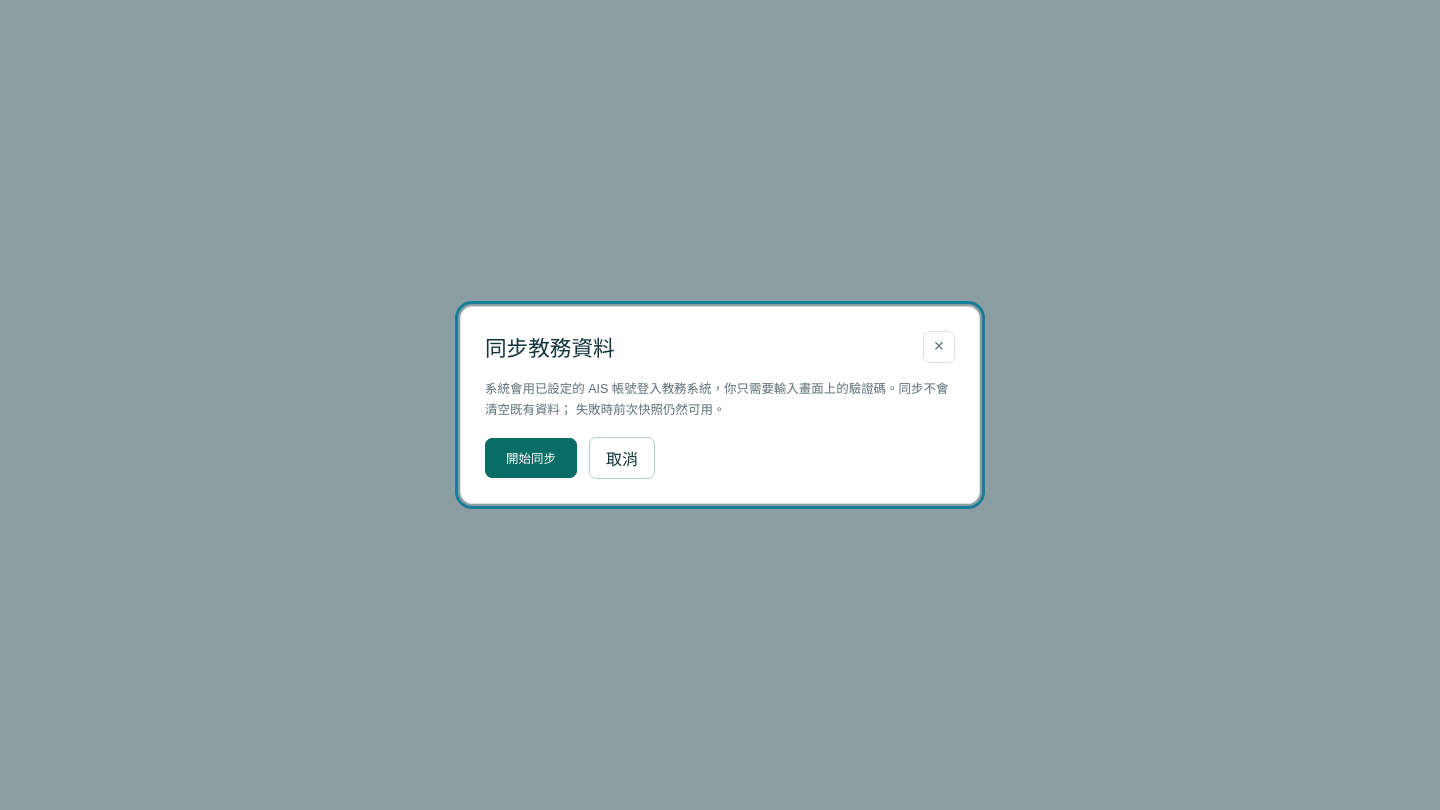
Test: SyncDialog（AIS 同步） › 開始同步 → 輸入驗證碼 → 顯示同步結果，並通知父層重新載入
Later steps or results of the test are not shown.
Click the button "開始同步" at (531, 458), box [485, 438, 577, 478]
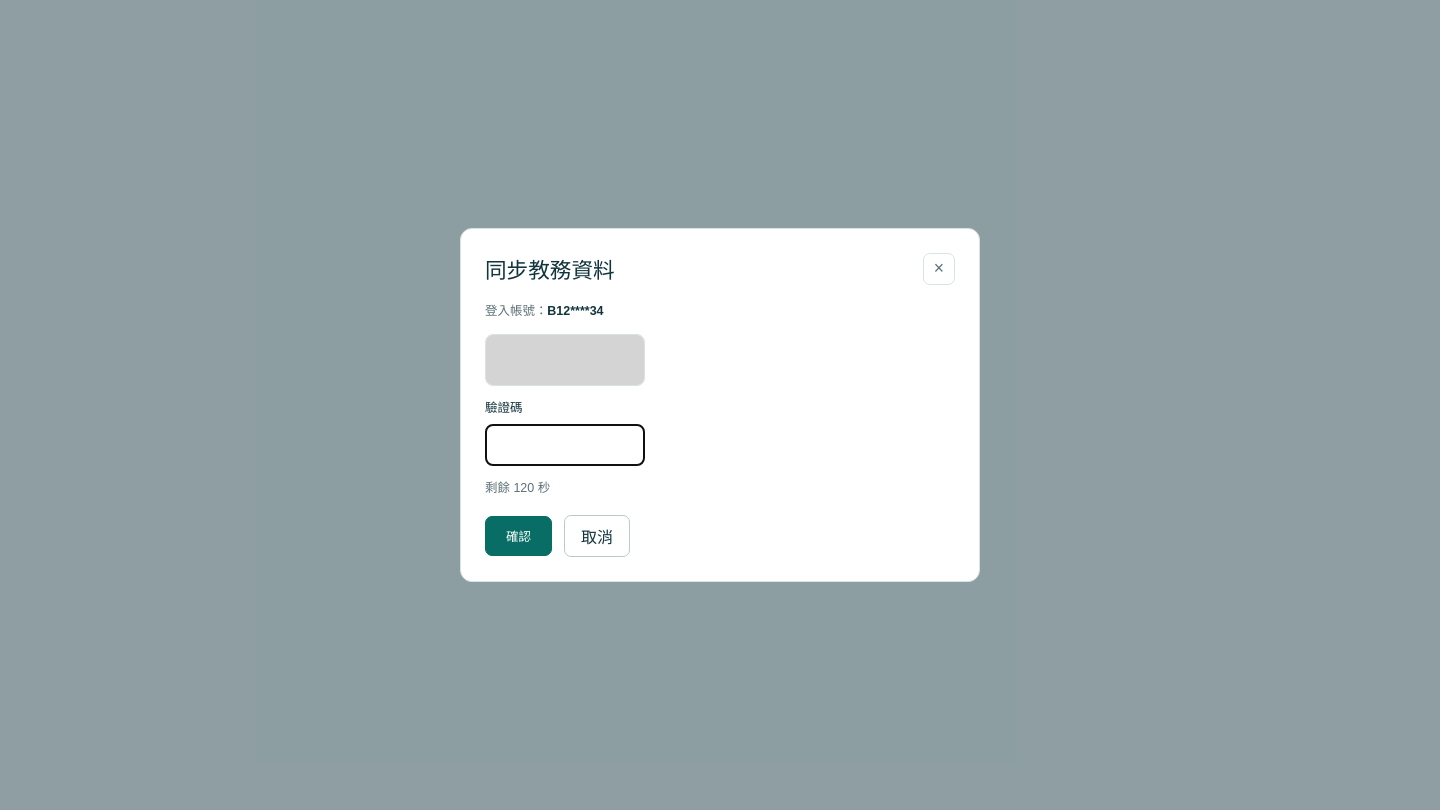
Expected: the text "B12****34" is shown, [547, 304, 604, 318]
Type "a1b2" into the field labelled "驗證碼" at (565, 445), box [485, 424, 645, 466]
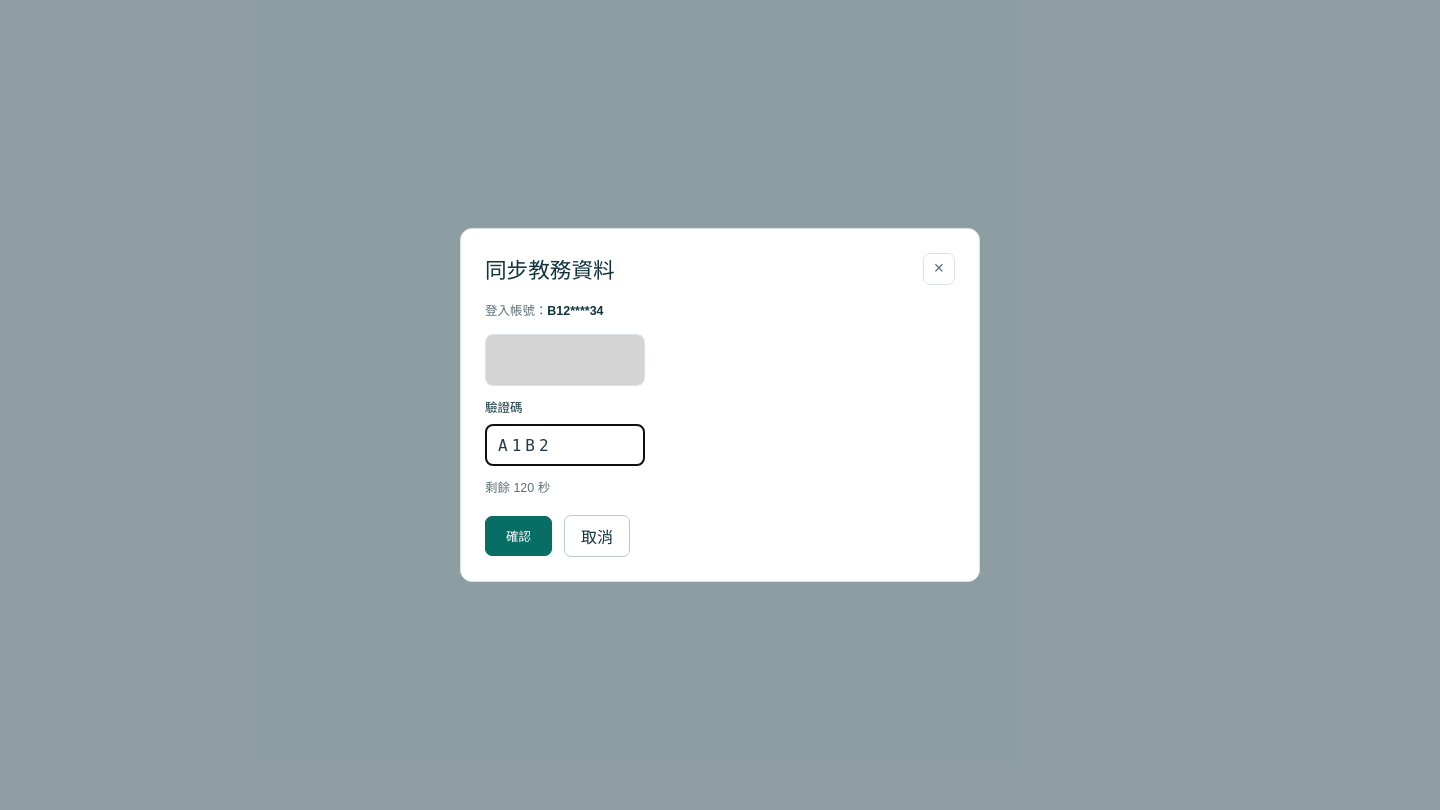
Click the button "確認" at (518, 536), box [485, 516, 552, 556]
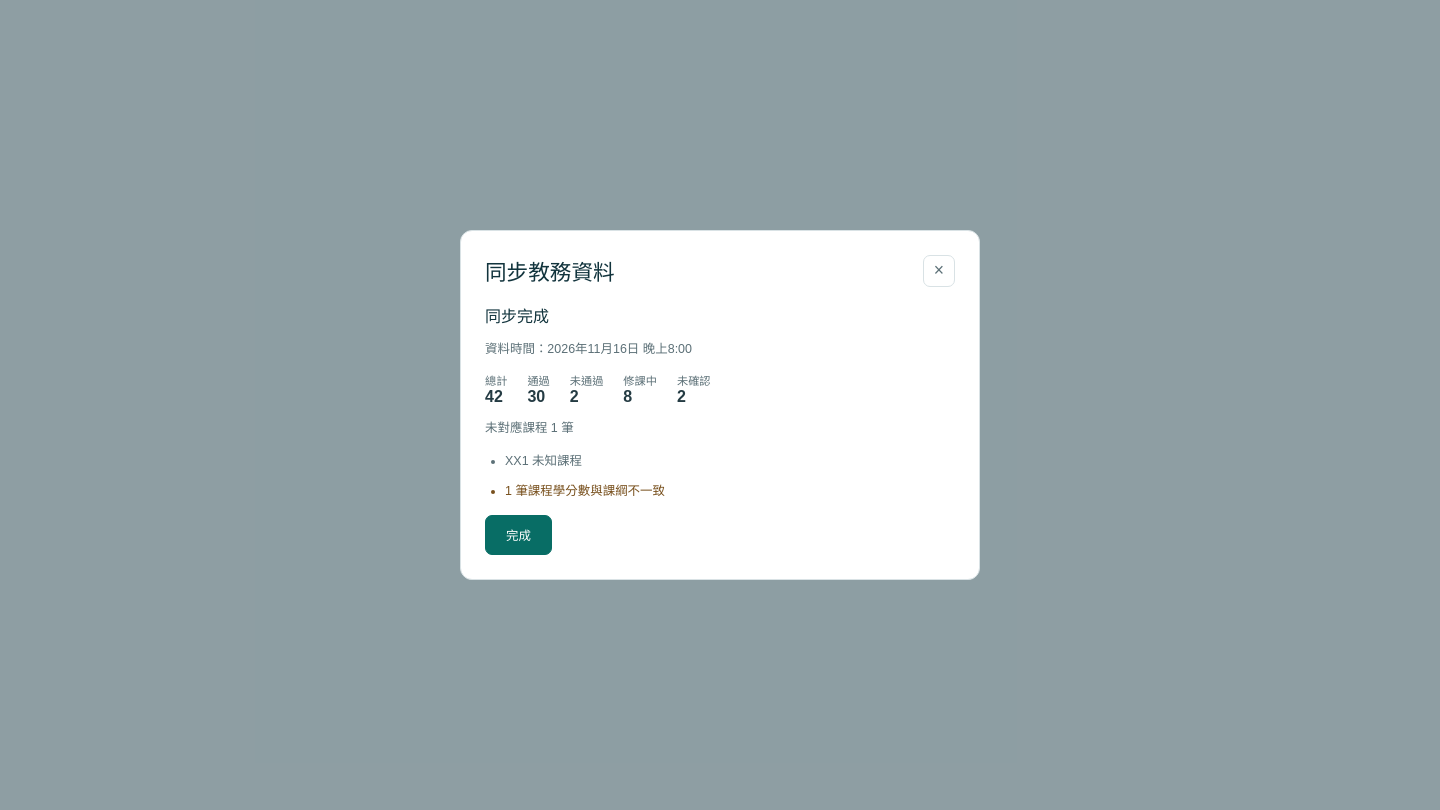
Expected: the heading "同步完成" is shown, [485, 308, 549, 325]
Expected: the text "未對應課程 1 筆" is shown, [485, 421, 574, 435]
Expected: the list item "XX1 未知課程" is shown, [505, 454, 582, 468]
